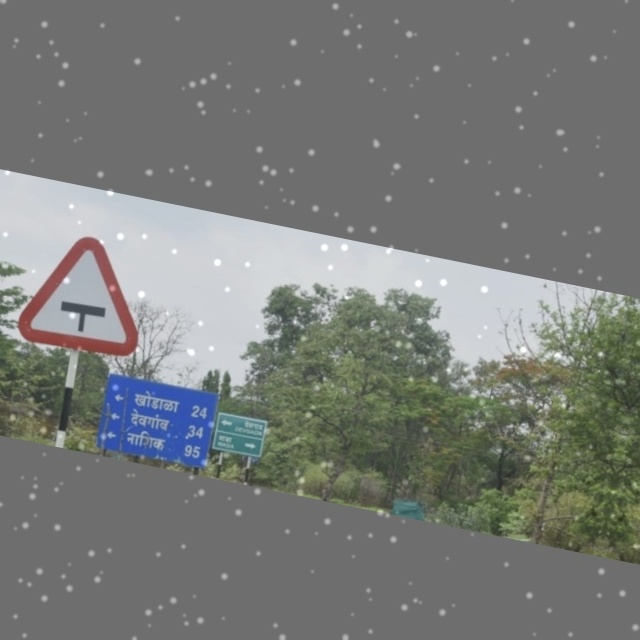T_Intersection: (10, 224, 162, 374)
